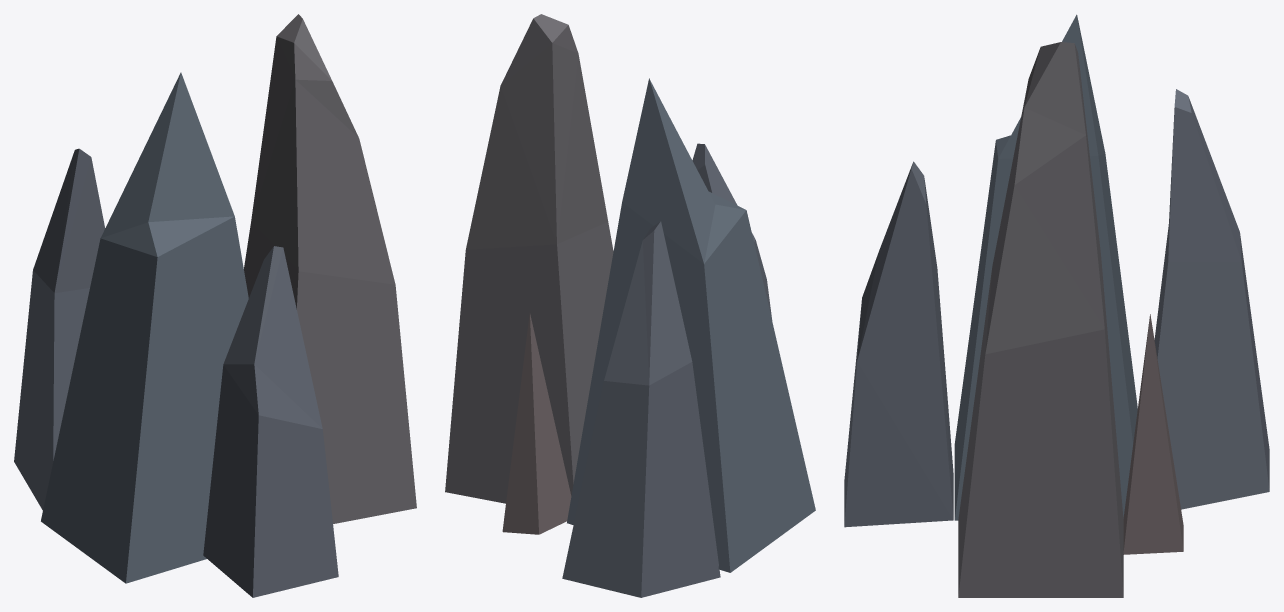
The model's file is Rocks_Sharp_s_02.fbx.
3 views of the same model, side by side, from view 1: azimuth 30°, elevation 25°; view 2: azimuth 150°, elevation 25°; view 3: azimuth 270°, elevation 25° (orthographic). The views are drawn at different scales.
Parts seen in each view (by area): view 1: Rocks_Sharp_s_02; view 2: Rocks_Sharp_s_02; view 3: Rocks_Sharp_s_02.
Part boxes in pixels (x1,y1,x2,y2): Rocks_Sharp_s_02: (14,14,416,597); Rocks_Sharp_s_02: (445,14,815,597); Rocks_Sharp_s_02: (844,14,1269,597).
Bounding box in the file's own units: 0.4674 × 0.7363 × 0.5339.
